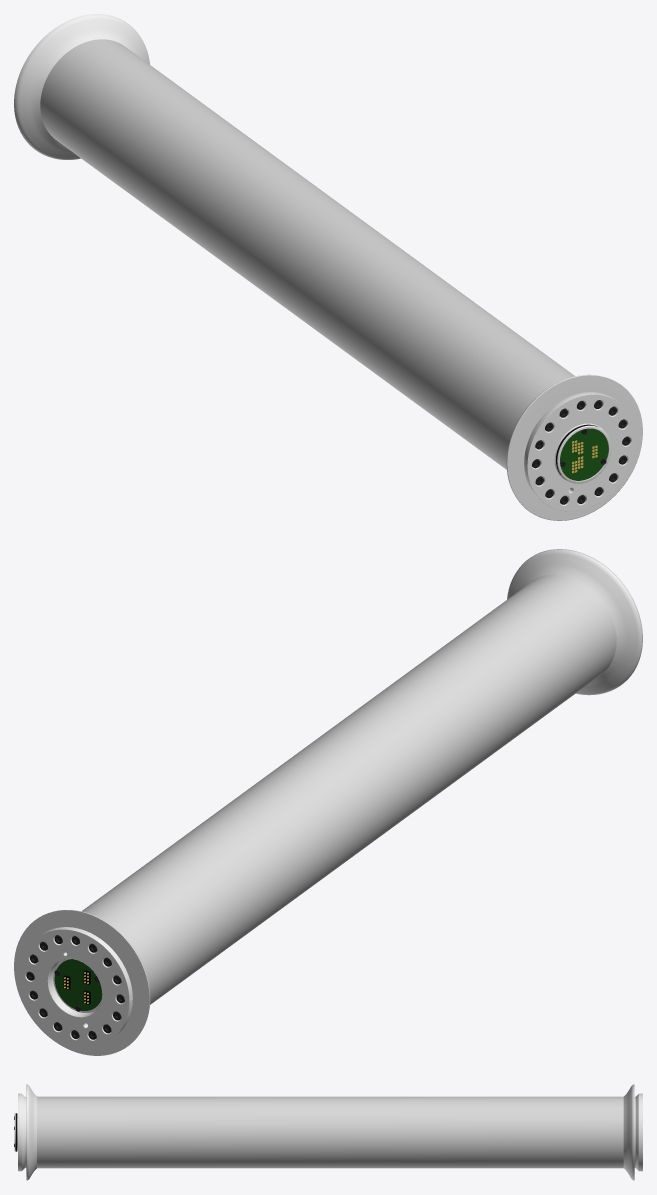
3 views of the same model, one above another, from view 1: azimuth 30°, elevation 25°; view 2: azimuth 150°, elevation 25°; view 3: azimuth 270°, elevation 25° (orthographic). The views are drawn at different scales.
Parts seen in each view (by area): view 1: I116.001; view 2: I116.001; view 3: I116.001.
Boxes of the visible parts, box(x1,y1,x2,y2) form: I116.001: box(14, 14, 642, 520); I116.001: box(14, 549, 642, 1055); I116.001: box(14, 1084, 642, 1180).
Size of the model in its own units: 0.116 by 0.116 by 0.7547.
